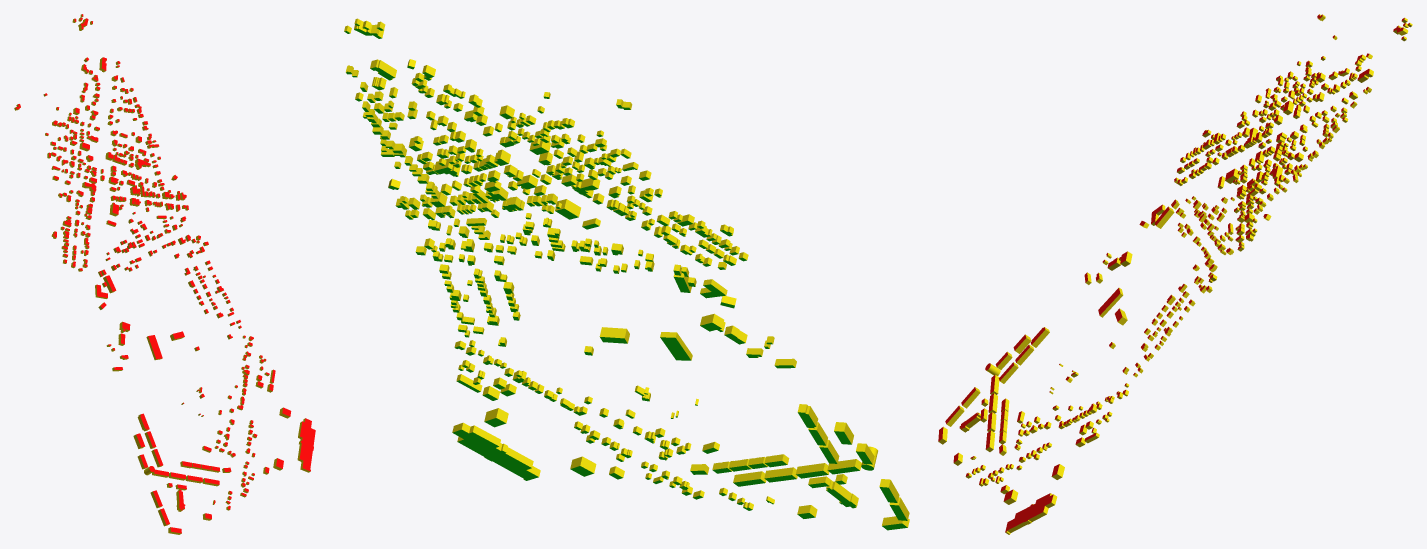
The picture shows the model from 3 angles, left to right: view 1: azimuth 30°, elevation 25°; view 2: azimuth 150°, elevation 25°; view 3: azimuth 270°, elevation 25°; orthographic projection. The views are drawn at different scales.
Visible parts, largest first — view 1: mesh; view 2: mesh; view 3: mesh.
Boxes of the visible parts, x1,y1,x2,y2 form: mesh: (14, 14, 315, 534); mesh: (344, 18, 909, 530); mesh: (938, 14, 1412, 534).
Bounding box in the file's own units: 840 × 1474 × 1334.
